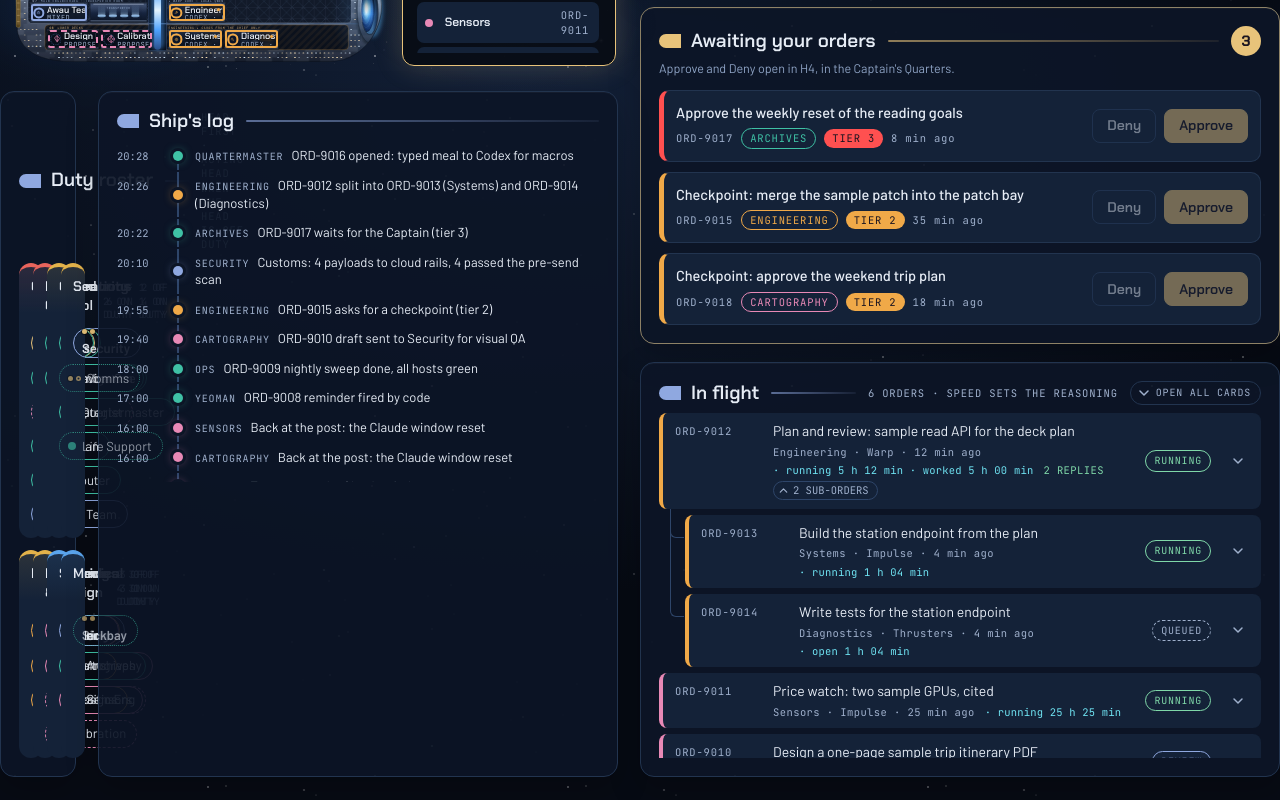
Test: chain of command › a roster card opens its chain: Captain, Number One, the head, then the rest
(page scrolled)
What coordinates should you click on to do the following:
click the 2nd element with class "dept"
I would click on:
 (45, 401)
Its box is [33,263,57,538].
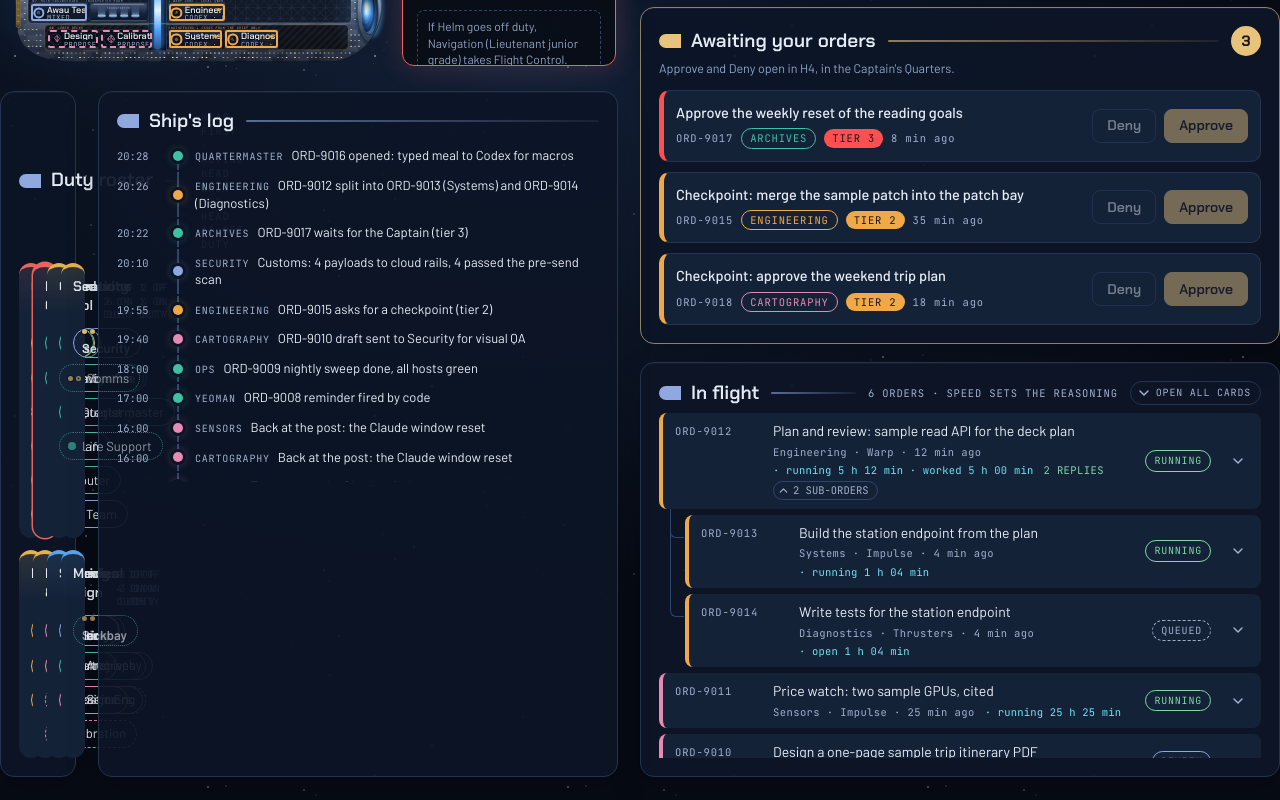
Check: the text with class "chain-cover" shows "Navigation", box [428,19,578,66]
